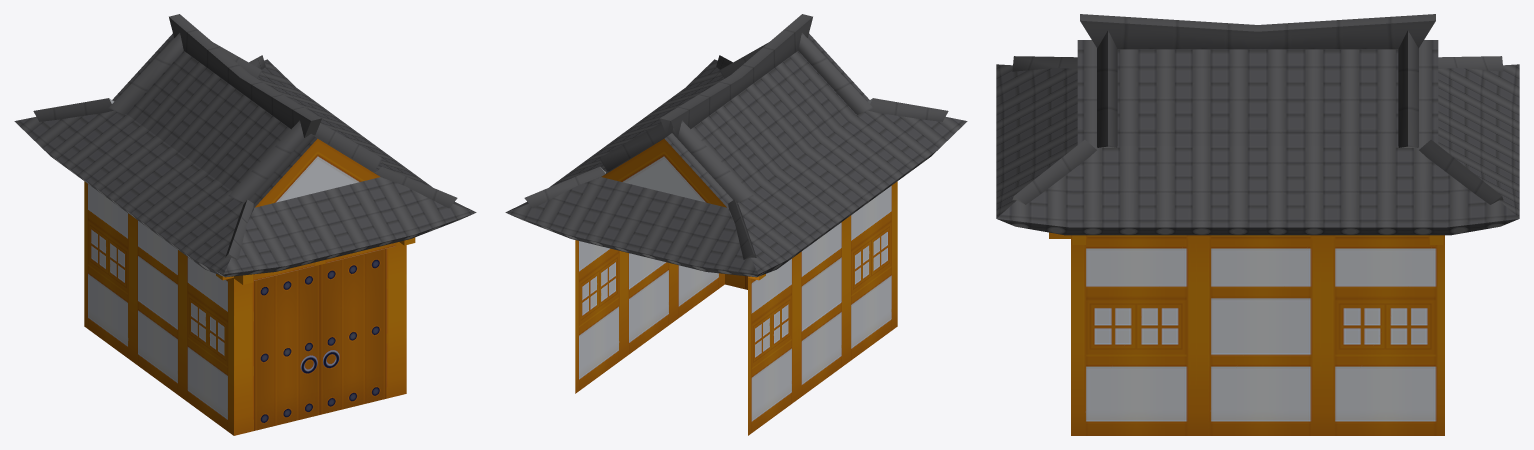
The model's file is Landmark_Bukchon_Hanok_01.fbx.
3 views of the same model, side by side, from view 1: azimuth 30°, elevation 25°; view 2: azimuth 150°, elevation 25°; view 3: azimuth 270°, elevation 25° (orthographic). The views are drawn at different scales.
Visible parts, largest first — view 1: Landmark_Bukchon_Hanok_01; view 2: Landmark_Bukchon_Hanok_01; view 3: Landmark_Bukchon_Hanok_01.
Part boxes in pixels (bbox=[...]): Landmark_Bukchon_Hanok_01: bbox=[14, 14, 476, 435]; Landmark_Bukchon_Hanok_01: bbox=[505, 14, 967, 435]; Landmark_Bukchon_Hanok_01: bbox=[996, 14, 1519, 435].
Size of the model in its own units: 1058 by 1168 by 1514.
